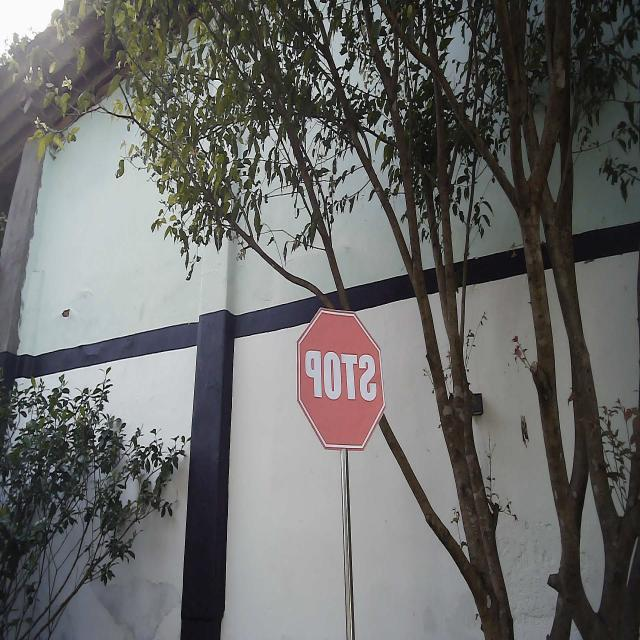stop: (294, 302, 387, 454)
